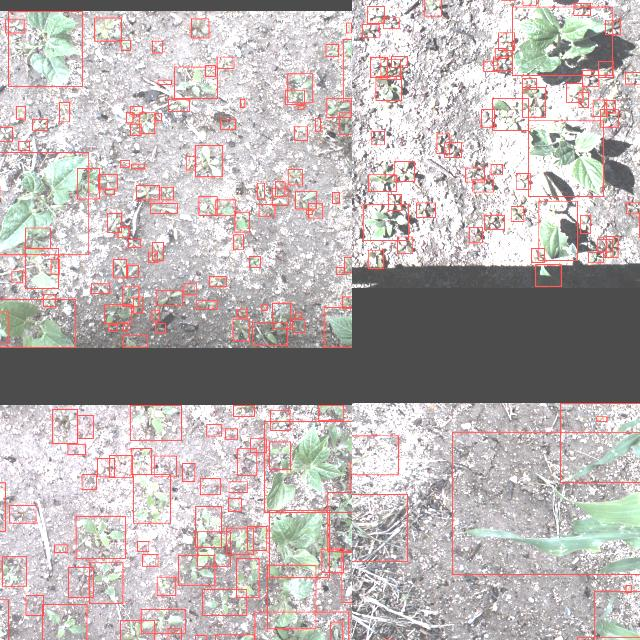crop: (452, 430, 640, 573), (0, 151, 89, 254), (264, 420, 352, 511), (512, 5, 612, 74), (560, 402, 640, 481), (528, 120, 604, 196), (8, 10, 82, 86), (269, 509, 329, 577), (0, 299, 75, 347), (268, 564, 316, 628), (255, 611, 349, 640), (538, 200, 578, 260), (324, 307, 352, 347), (536, 264, 560, 286)
weed: (352, 493, 407, 560), (76, 515, 126, 557), (130, 404, 182, 440), (352, 434, 398, 473), (134, 473, 170, 522), (363, 204, 409, 240), (42, 604, 88, 640), (327, 491, 352, 550), (89, 561, 123, 603), (175, 66, 218, 98), (26, 248, 58, 288), (492, 98, 528, 130), (198, 530, 230, 566), (202, 589, 246, 615), (179, 555, 215, 585), (141, 609, 185, 633), (195, 506, 221, 546), (237, 557, 260, 597), (195, 144, 223, 176), (52, 408, 78, 442), (252, 322, 288, 346), (68, 567, 94, 597), (226, 527, 254, 553), (76, 168, 100, 198), (522, 87, 546, 117), (2, 556, 26, 586), (288, 72, 312, 101), (120, 620, 154, 640), (95, 16, 122, 40), (376, 76, 402, 100), (130, 448, 152, 474), (270, 441, 290, 469), (341, 552, 352, 602), (105, 304, 132, 324), (110, 454, 132, 478), (322, 548, 344, 572), (326, 97, 352, 117), (368, 174, 396, 192), (155, 454, 177, 476), (26, 228, 50, 248), (247, 526, 267, 550), (272, 302, 290, 328), (10, 504, 36, 522), (238, 448, 256, 474), (156, 290, 182, 306), (318, 404, 344, 420), (380, 58, 400, 78), (394, 161, 414, 181), (270, 409, 290, 429), (232, 319, 250, 341), (136, 184, 160, 200), (157, 576, 176, 596), (296, 190, 316, 208), (370, 57, 388, 77), (26, 595, 44, 615), (199, 197, 217, 216), (78, 414, 92, 438), (191, 18, 209, 36), (600, 109, 618, 127), (234, 211, 250, 231), (123, 286, 139, 306), (216, 199, 236, 215), (416, 202, 436, 218), (484, 214, 504, 230), (567, 82, 583, 102), (200, 478, 220, 494), (122, 335, 148, 347), (98, 458, 114, 477), (140, 111, 154, 132), (272, 187, 288, 205), (286, 88, 304, 104), (368, 250, 384, 268), (582, 70, 600, 86), (498, 32, 514, 50), (339, 112, 352, 134), (108, 212, 122, 232), (150, 203, 178, 213), (113, 258, 127, 278), (368, 5, 384, 22), (424, 0, 442, 15), (99, 174, 118, 188), (493, 56, 512, 70), (168, 98, 190, 110), (606, 236, 618, 258), (436, 133, 449, 153), (0, 311, 8, 343), (598, 61, 614, 77), (6, 18, 24, 32), (398, 236, 412, 254), (444, 142, 462, 156), (466, 167, 484, 181), (233, 404, 254, 416), (473, 179, 493, 191), (593, 98, 607, 115), (182, 463, 195, 481), (215, 634, 254, 640), (288, 168, 302, 184), (309, 202, 323, 218), (362, 23, 378, 37), (388, 194, 402, 210), (516, 173, 530, 189), (606, 18, 620, 34), (250, 438, 266, 452), (216, 56, 234, 68), (152, 242, 164, 260), (482, 109, 494, 127), (331, 622, 343, 640), (196, 300, 217, 310), (511, 206, 524, 222), (90, 283, 110, 293), (59, 101, 69, 121), (68, 442, 86, 453), (229, 481, 247, 492), (294, 126, 308, 140), (82, 474, 96, 488), (259, 204, 275, 216), (32, 118, 48, 130), (383, 16, 399, 28), (470, 227, 482, 243), (574, 2, 590, 14), (142, 554, 158, 566), (580, 214, 590, 233), (168, 627, 182, 640), (625, 71, 640, 83), (210, 276, 227, 286), (160, 187, 173, 200), (42, 294, 56, 306), (0, 126, 12, 140), (326, 42, 338, 56), (532, 248, 544, 262), (598, 239, 612, 251), (228, 498, 242, 510), (233, 234, 243, 250), (220, 119, 236, 129), (391, 56, 407, 66), (588, 252, 604, 262), (206, 424, 222, 434), (626, 202, 640, 213), (522, 78, 536, 89), (292, 320, 304, 332), (372, 132, 384, 144), (604, 100, 616, 112), (275, 182, 285, 196), (186, 155, 196, 169), (578, 92, 588, 106), (484, 61, 498, 71), (16, 105, 26, 118), (257, 182, 265, 198), (51, 258, 59, 274), (134, 297, 142, 313), (341, 296, 352, 307), (184, 284, 196, 294), (12, 271, 22, 283), (118, 226, 128, 238), (18, 140, 30, 150), (205, 64, 215, 76), (152, 40, 162, 52), (128, 265, 138, 277), (130, 124, 142, 134), (344, 256, 352, 271), (491, 164, 503, 174), (494, 48, 506, 58), (225, 428, 237, 438), (54, 544, 68, 552), (156, 323, 166, 333), (250, 256, 260, 266), (121, 39, 131, 49), (148, 252, 158, 262), (138, 541, 148, 551), (128, 239, 140, 247), (130, 105, 142, 113), (126, 111, 134, 122), (158, 78, 172, 84), (152, 310, 160, 320), (237, 308, 247, 316), (332, 192, 340, 202), (109, 324, 118, 332), (120, 160, 130, 167), (336, 266, 344, 274), (346, 22, 352, 32), (122, 322, 128, 332), (131, 164, 145, 168), (195, 635, 206, 640), (106, 188, 114, 194), (240, 98, 246, 106), (155, 112, 161, 120), (316, 118, 320, 130), (597, 416, 607, 420), (295, 312, 301, 318), (626, 584, 630, 592), (262, 304, 266, 310), (298, 105, 304, 109), (306, 210, 312, 214)
